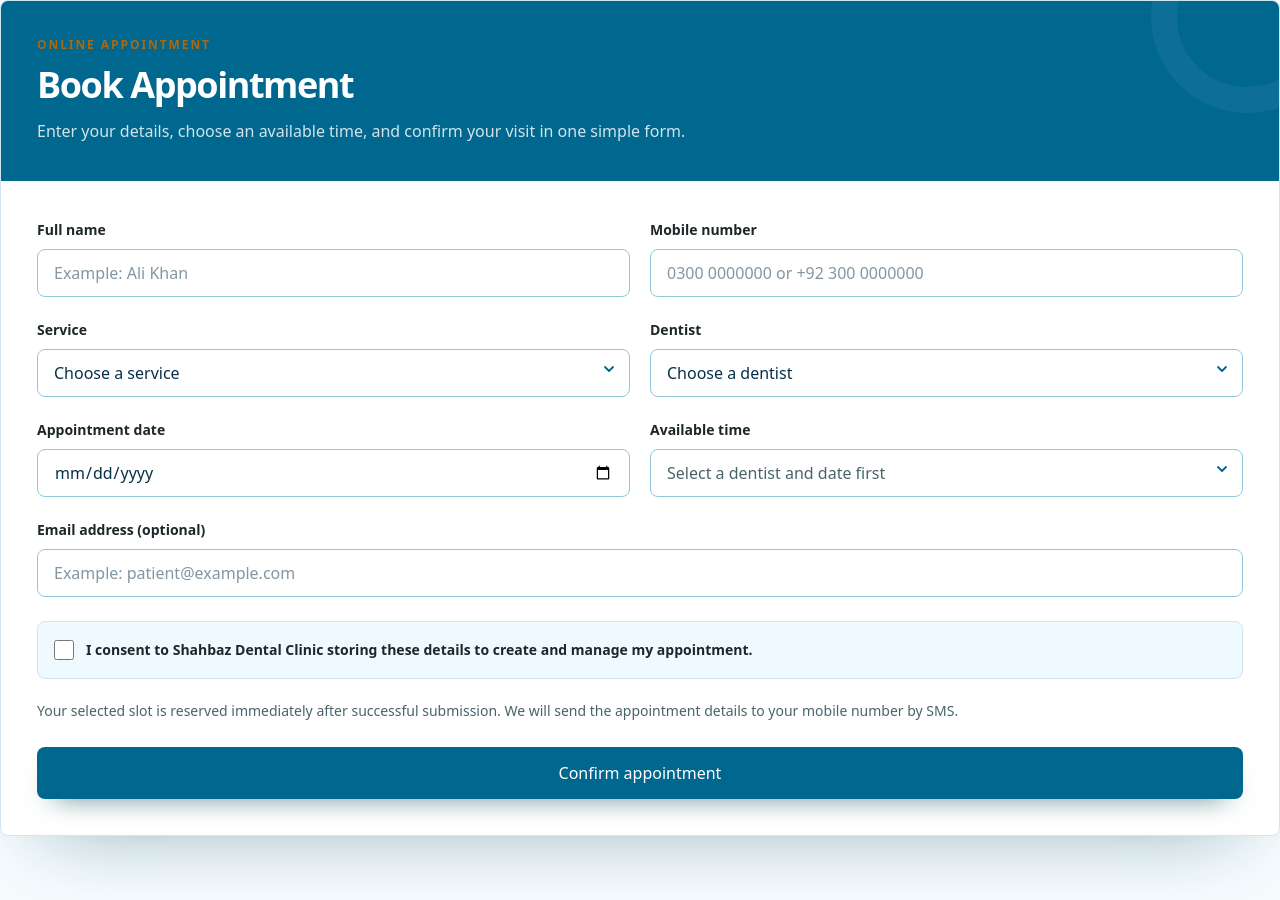
Test case: BookingWizard › stops showing a loading state when availability does not respond
Select "No preference" in the dropdown labelled "Dentist" at (946, 373), box [650,349,1243,397]
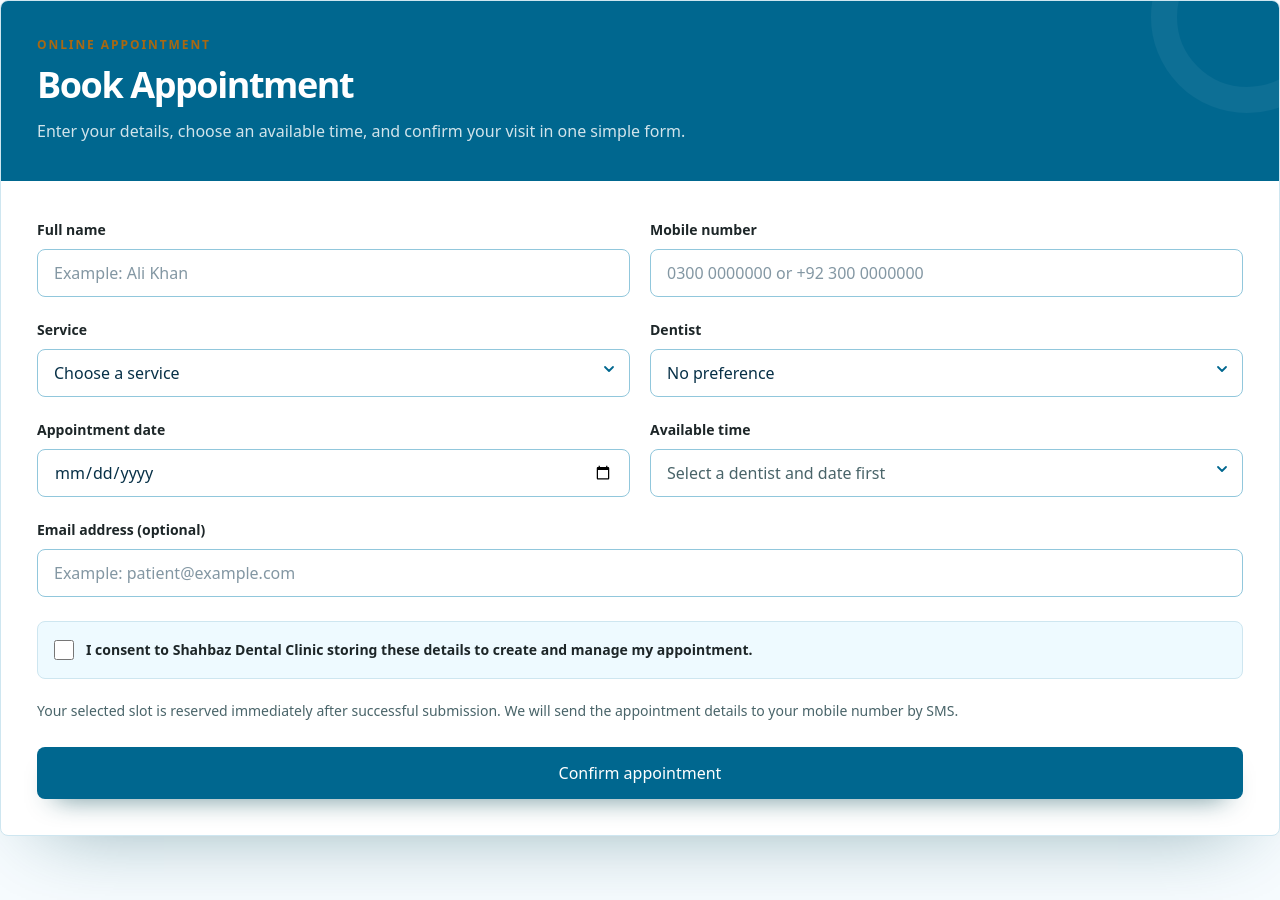
Type "2026-09-01" into the date field labelled "Appointment date" at (334, 473), box [37,449,630,497]
Wait 10001 ms
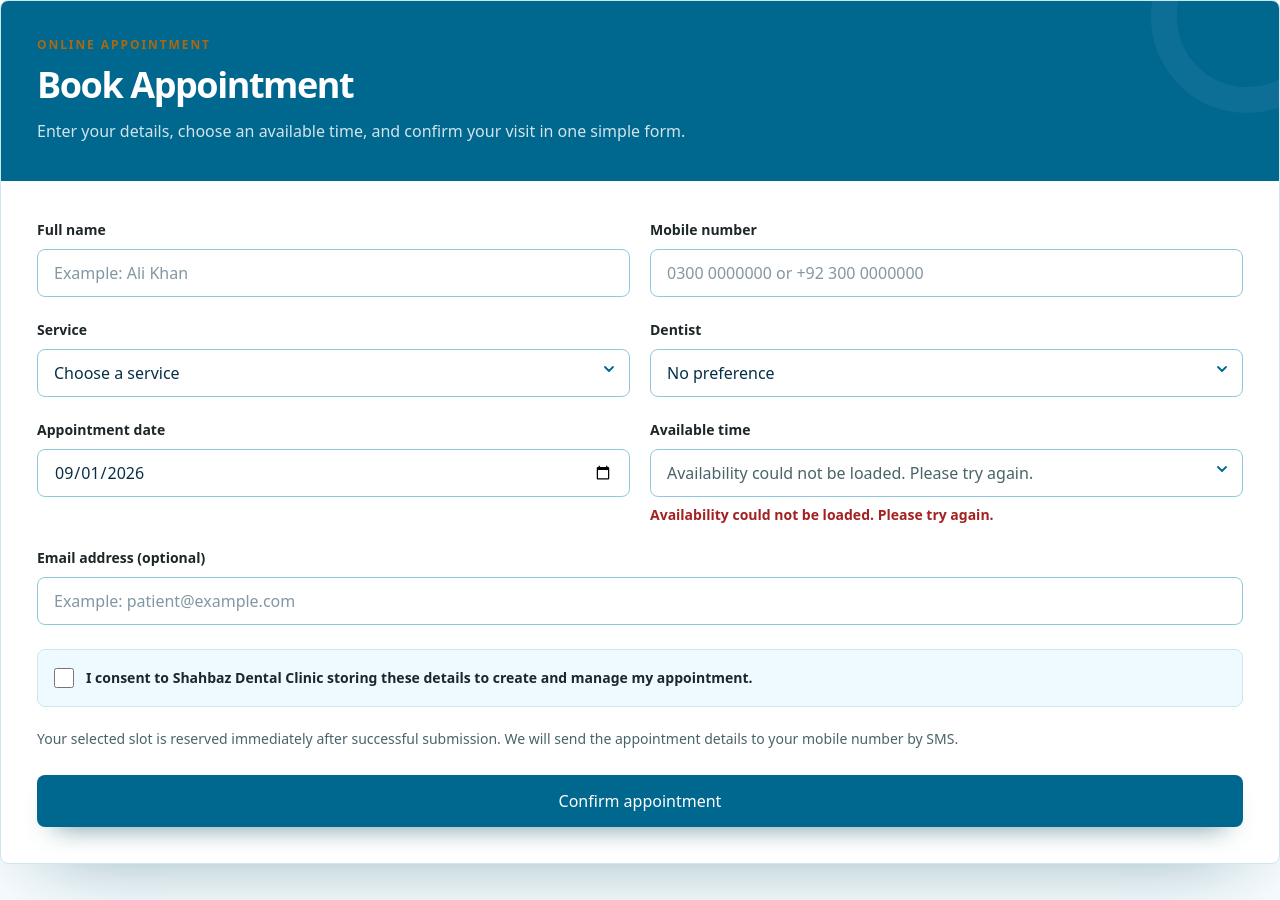
Result: the message reads "Availability could not be loaded. Please try again." at [650,505,994,524]
